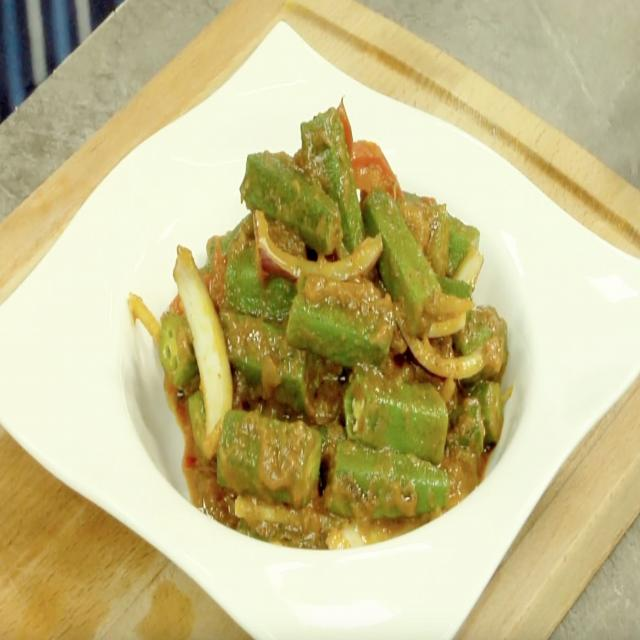BhindiMasala: (127, 98, 514, 550)
